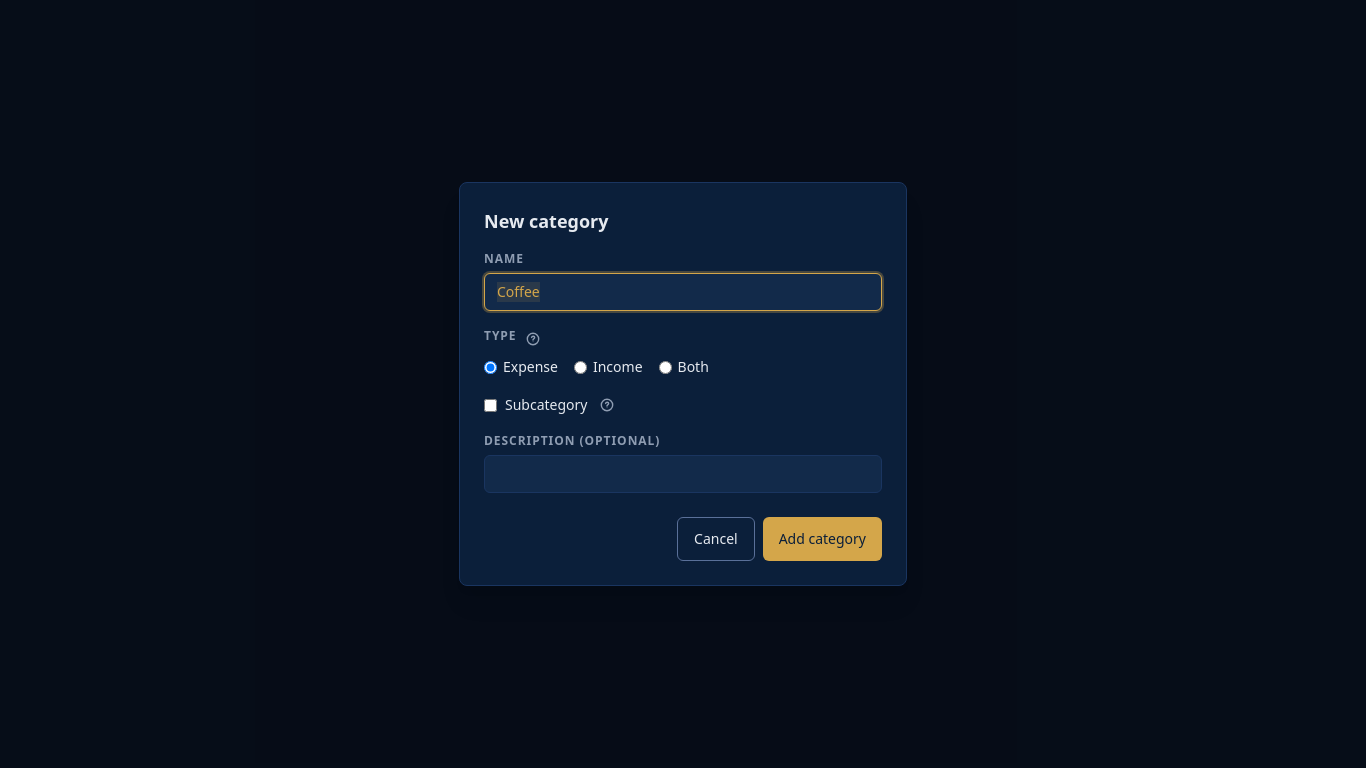
Test: AddCategoryModal › disables Add category while submitting
Click the button "Add category" at (822, 539), box [763,517,882,561]
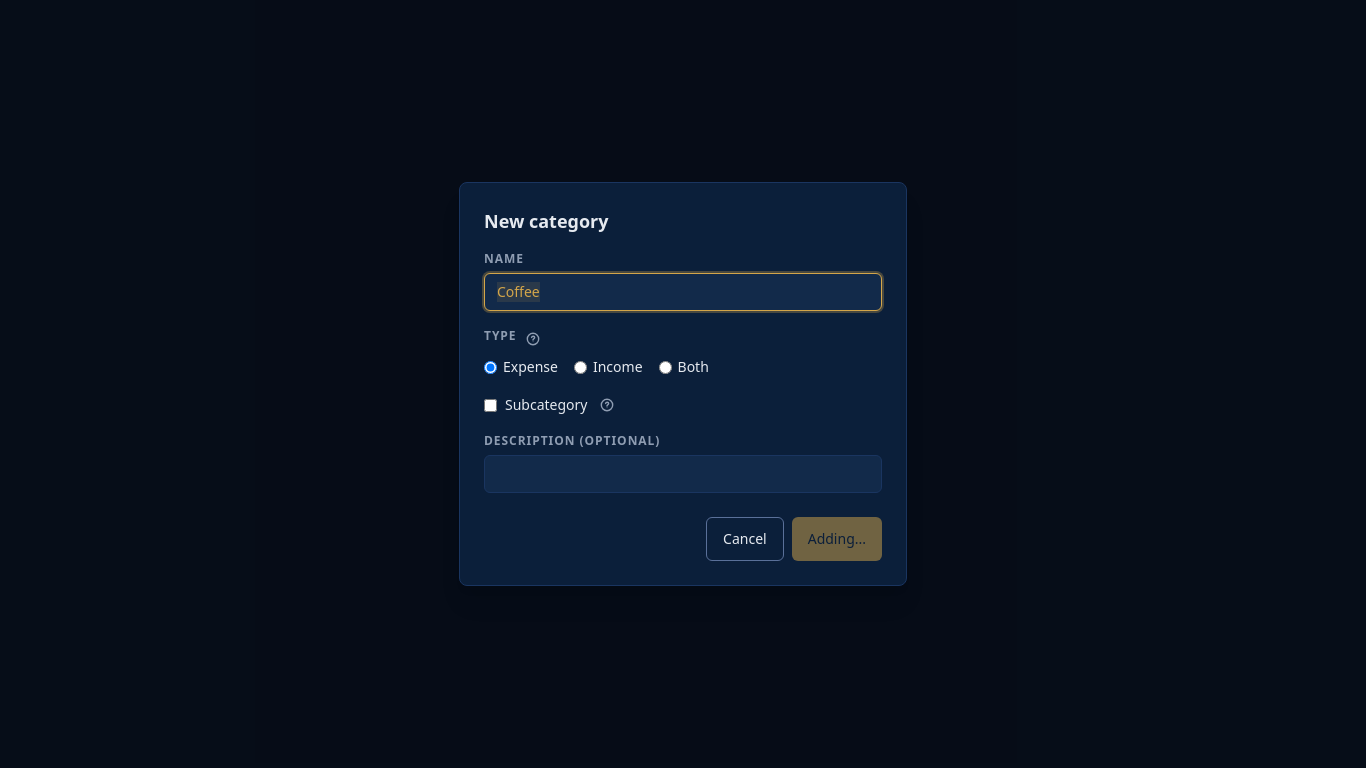
Now the button named "Add category" is disabled, box [792,517,882,561]
Now the button named "Add category" shows "Adding", box [792,517,882,561]
